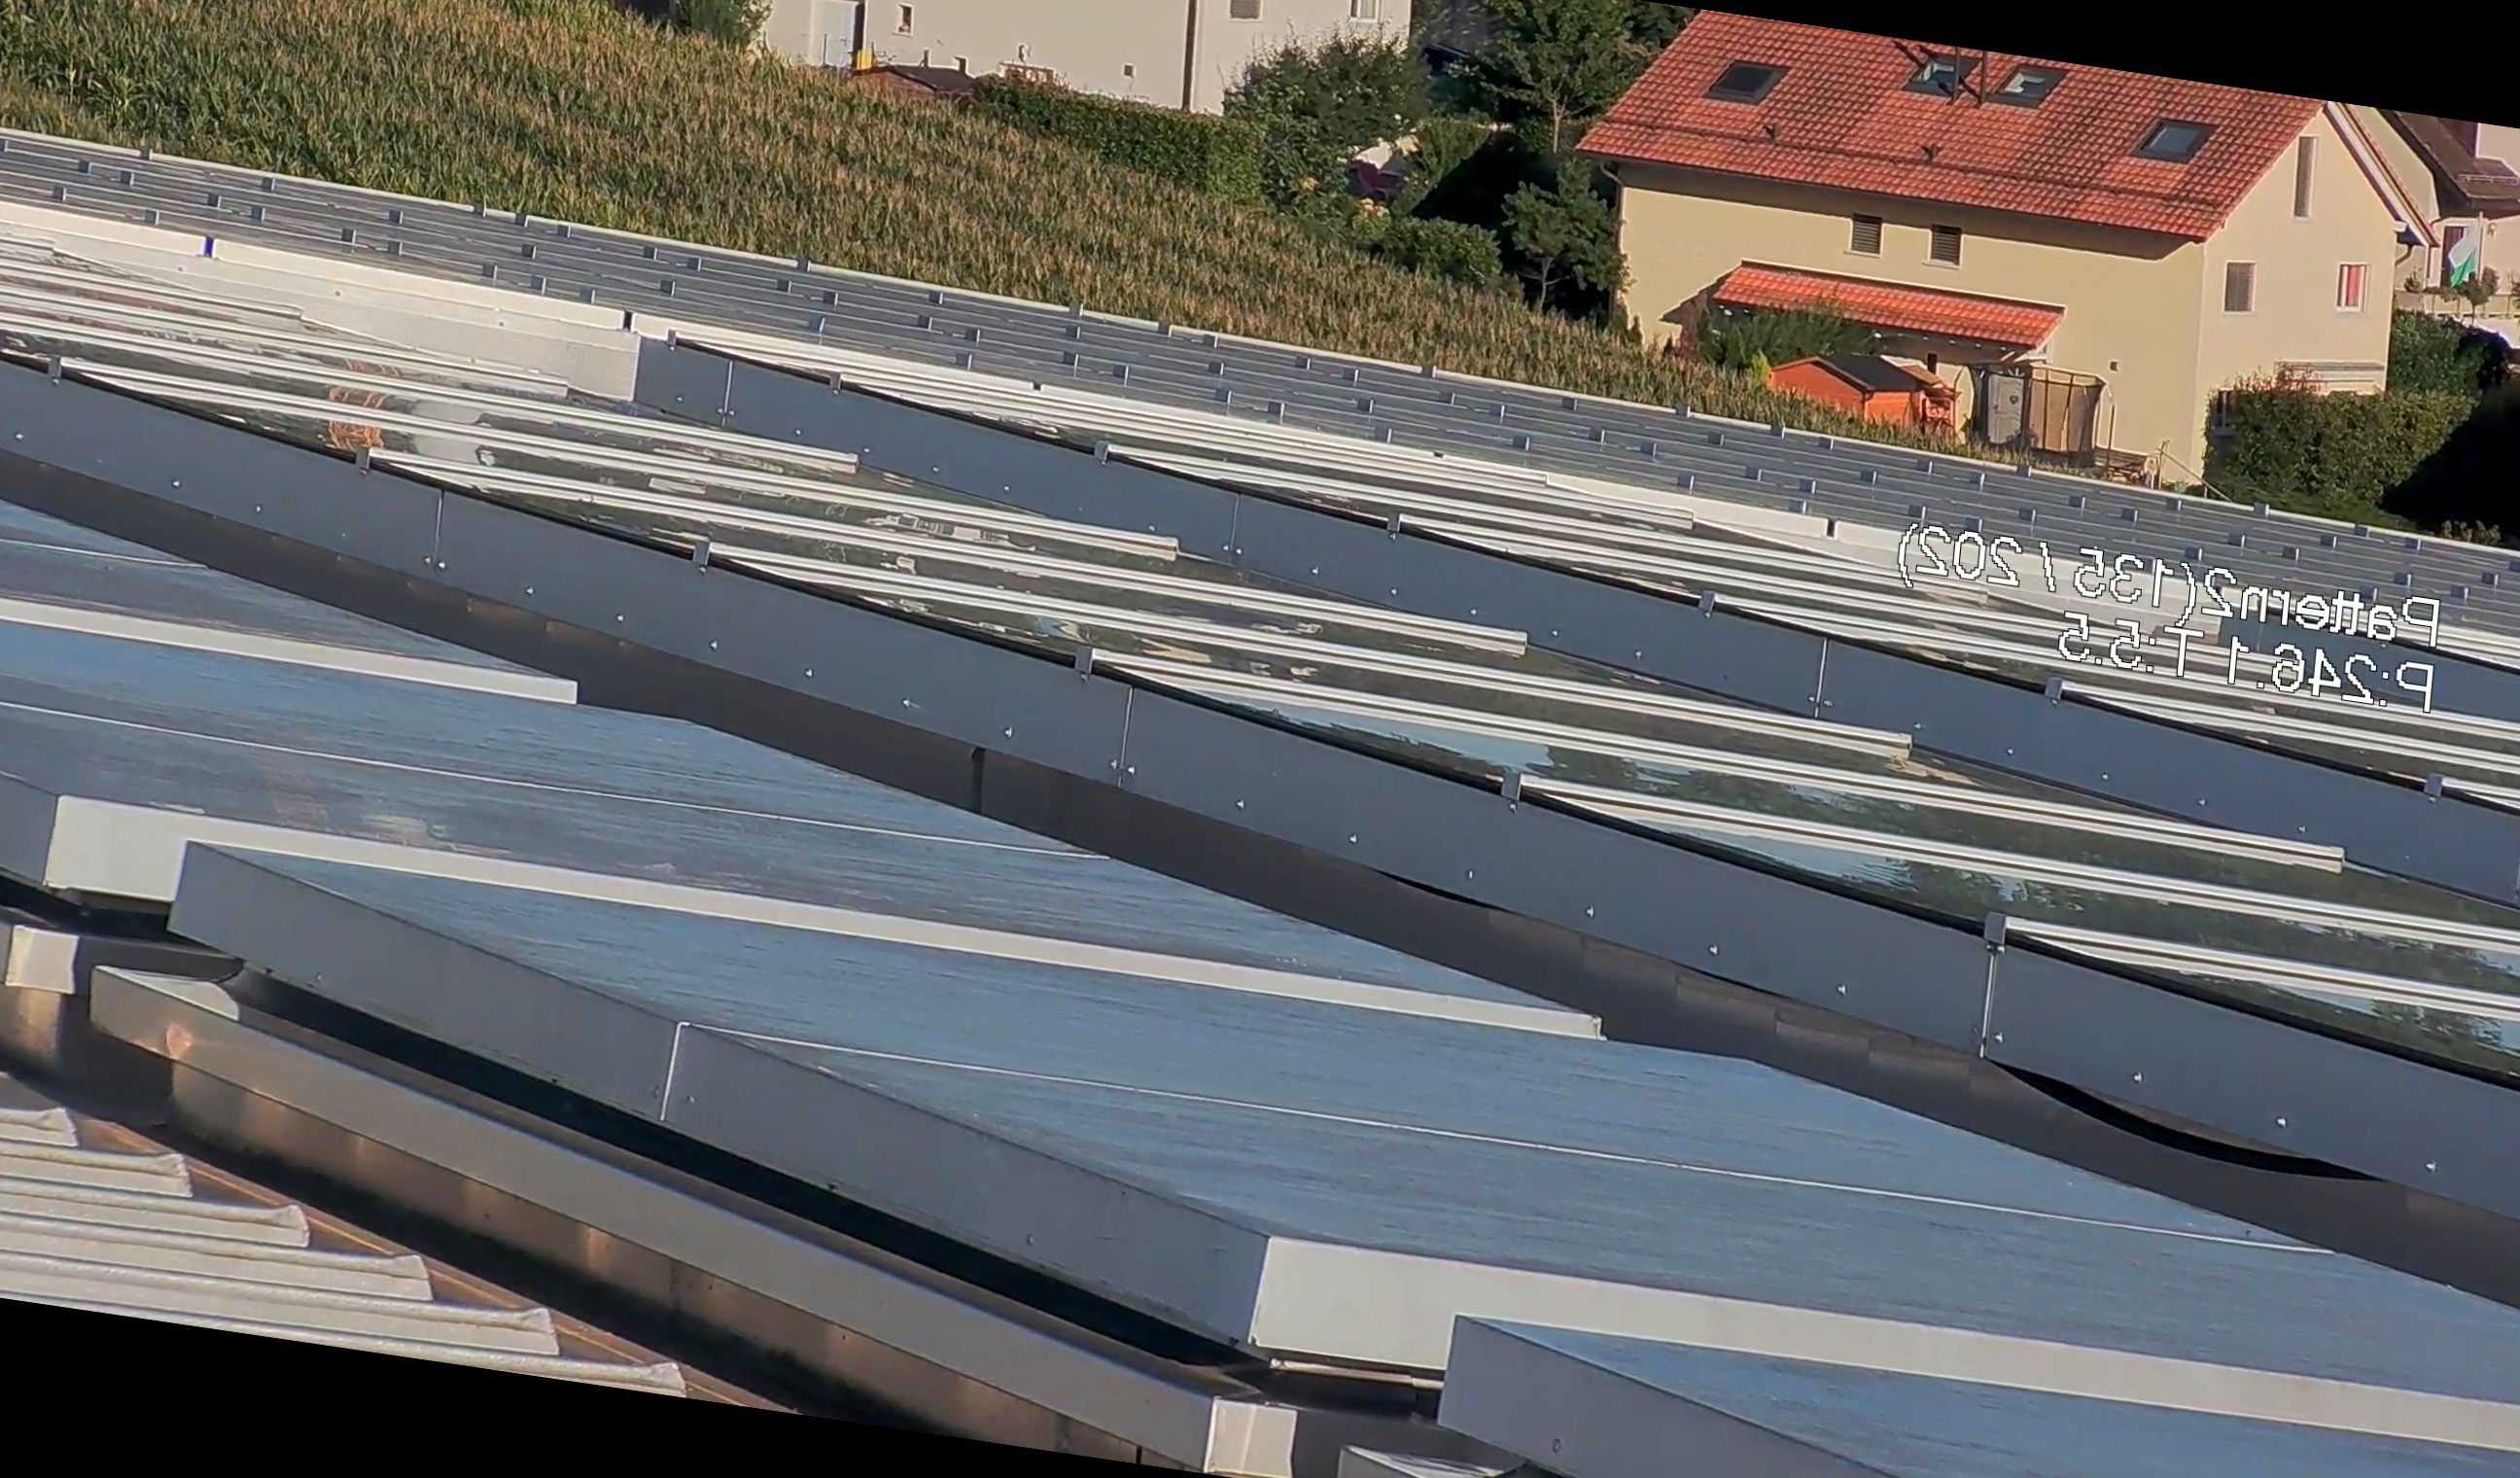Other: (468, 0, 688, 16)
